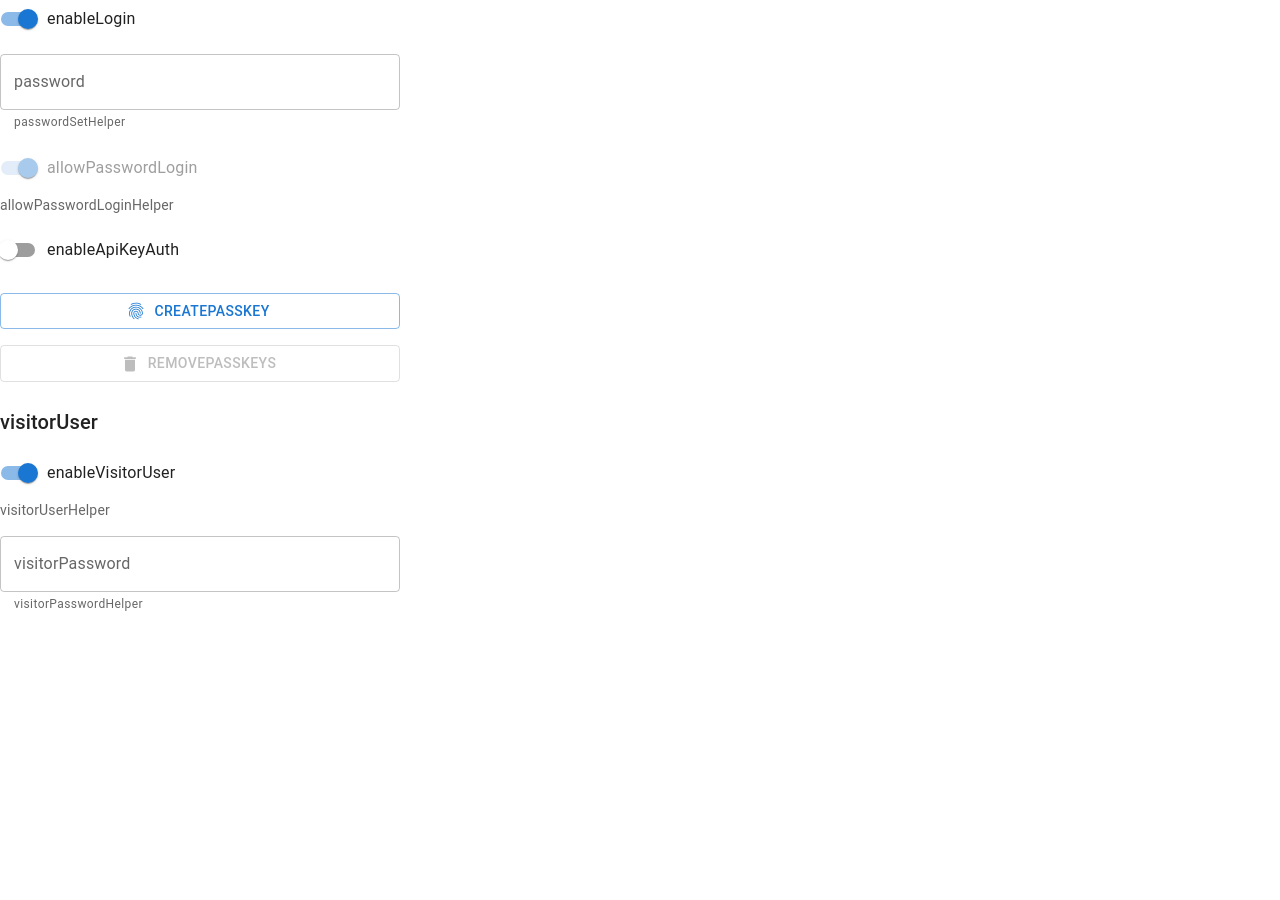
Test case: SecuritySettings › shows an unsupported alert when WebAuthn is unavailable
Click the button "createPasskey".
click(200, 311)  # box [0, 293, 400, 329]
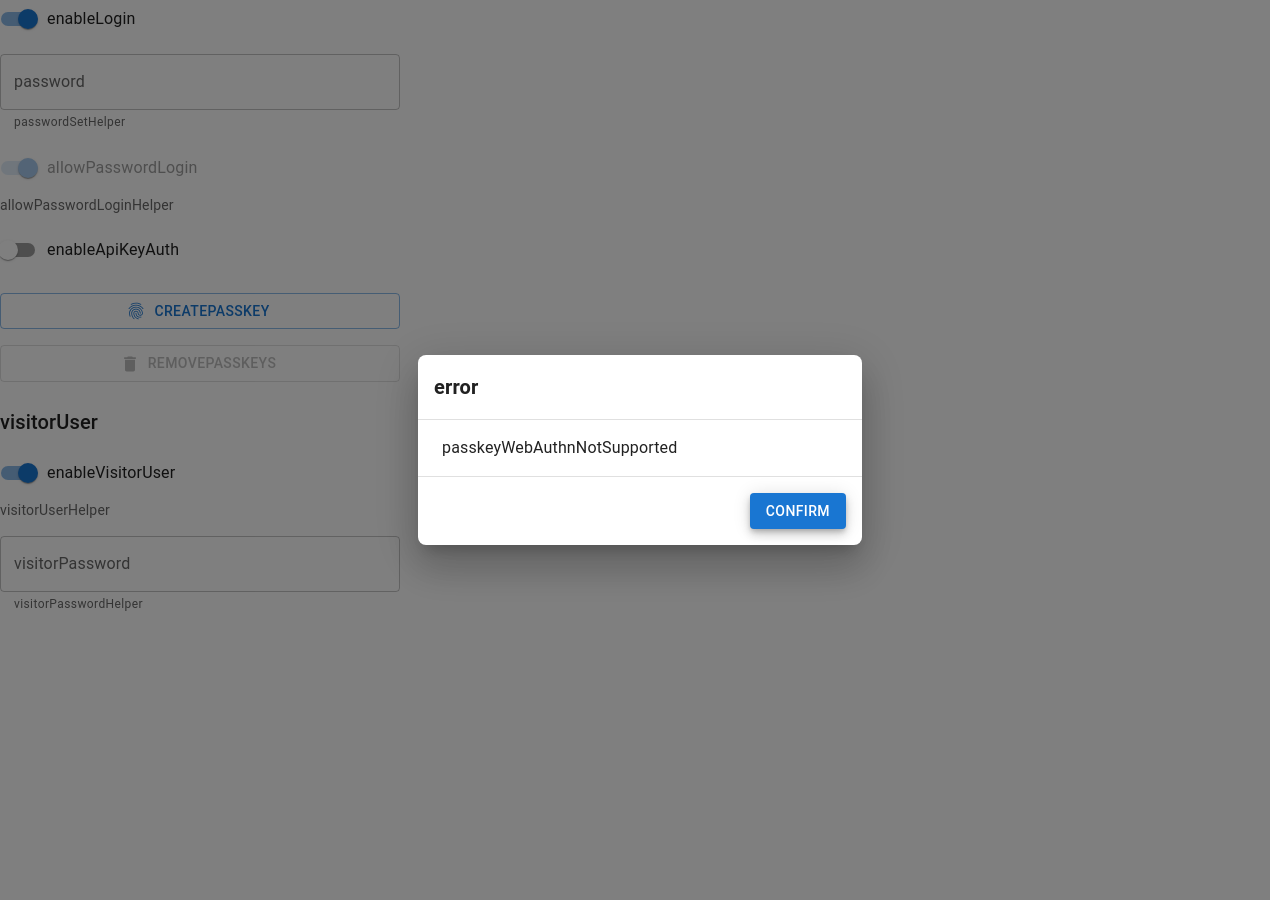
Check: the text "passkeyWebAuthnNotSupported" is shown, box [442, 438, 677, 457]
